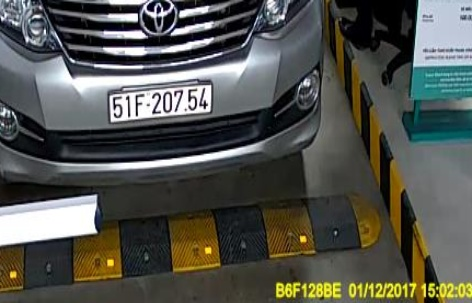plate: (101, 81, 211, 123)
